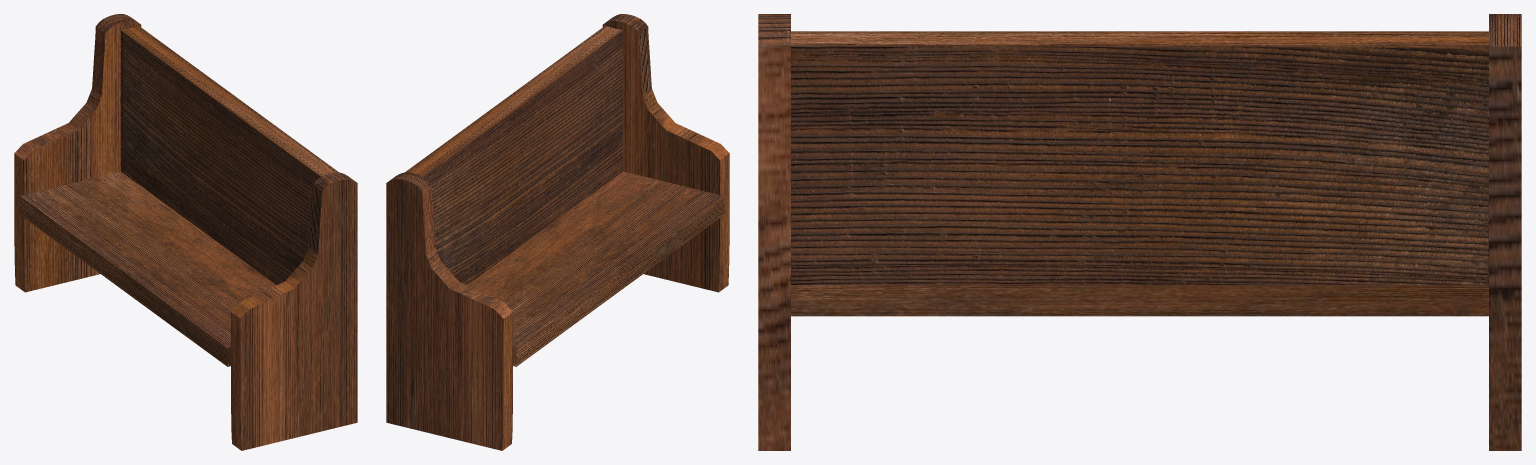
The model's file is bench.glb.
3 views of the same model, side by side, from view 1: azimuth 30°, elevation 25°; view 2: azimuth 150°, elevation 25°; view 3: azimuth 270°, elevation 25° (orthographic). The views are drawn at different scales.
Parts seen in each view (by area): view 1: Cube.007; view 2: Cube.007; view 3: Cube.007.
Boxes of the visible parts, left/top/right/bottom form: Cube.007: left=14, top=14, right=357, bottom=450; Cube.007: left=386, top=14, right=729, bottom=450; Cube.007: left=758, top=14, right=1521, bottom=450.
Size of the model in its own units: 2.97 by 5.77 by 9.6.
Materials: 1 (1 with a texture image).
